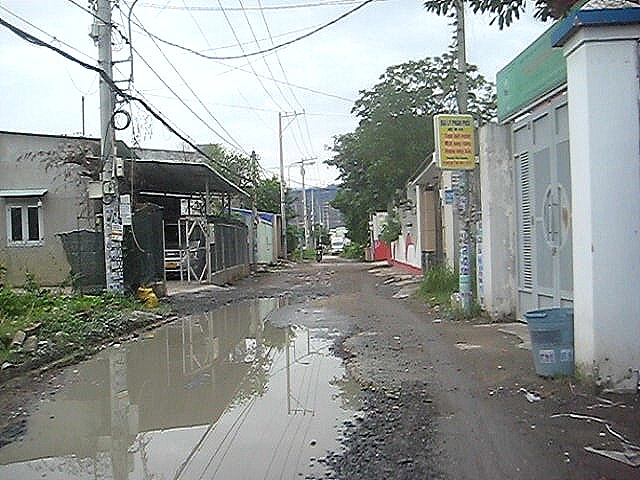hole: (1, 292, 390, 480)
